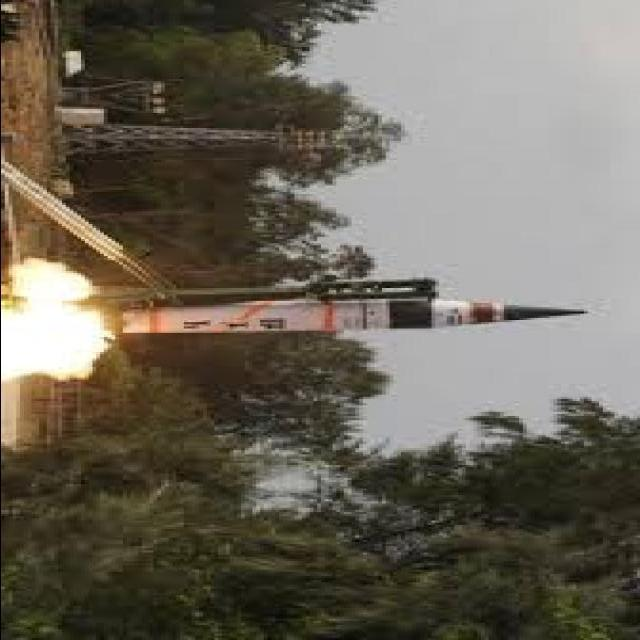Missile: (105, 288, 595, 342)
